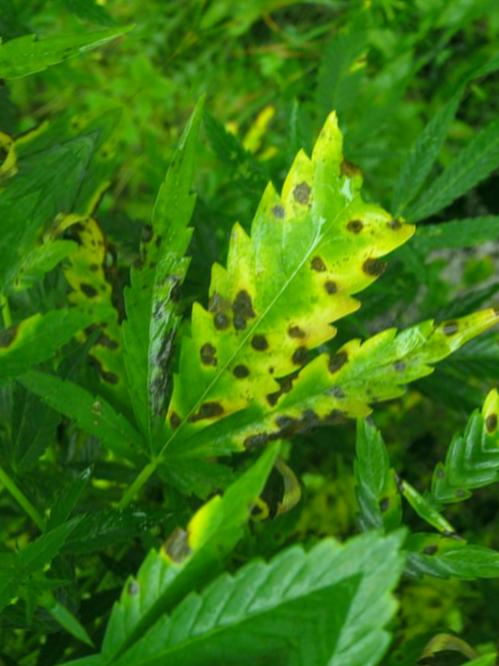Tomato leaf bacterial spot: (84, 105, 448, 471), (181, 220, 499, 552), (71, 417, 330, 666), (0, 252, 128, 447)
